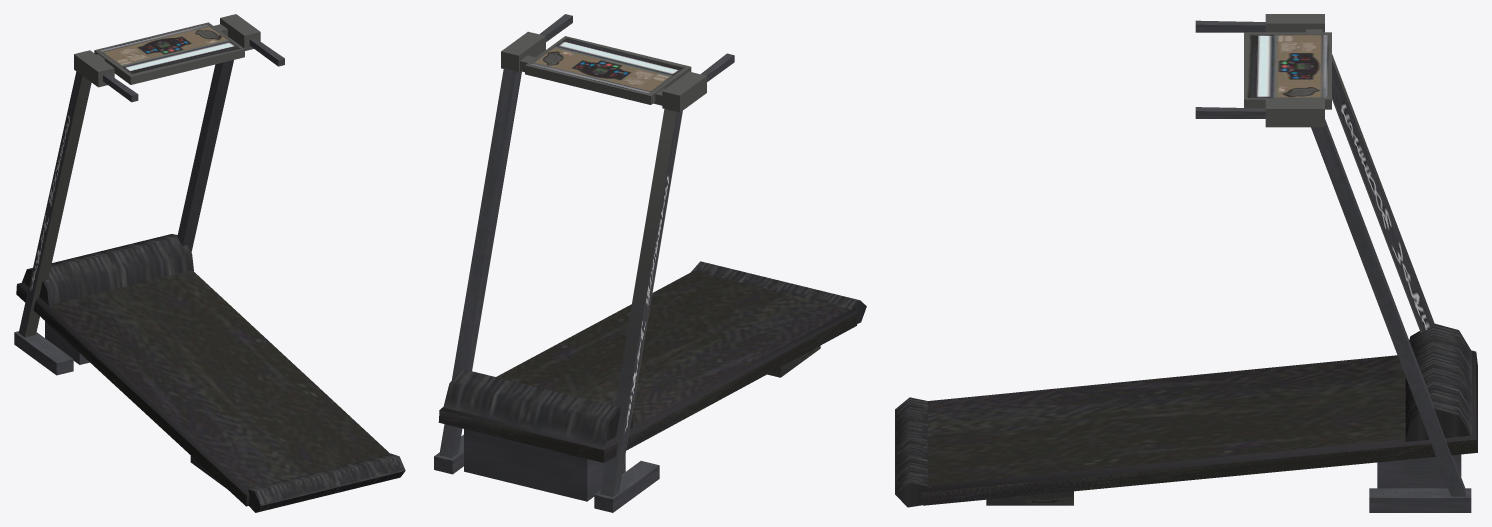
Rendered from tred.obj.
3 views of the same model, side by side, from view 1: azimuth 30°, elevation 25°; view 2: azimuth 150°, elevation 25°; view 3: azimuth 270°, elevation 25° (orthographic). The views are drawn at different scales.
Parts seen in each view (by area): view 1: br_tredmill; view 2: br_tredmill; view 3: br_tredmill.
Part boxes in pixels (bbox=[...]): br_tredmill: bbox=[14, 14, 405, 512]; br_tredmill: bbox=[434, 14, 866, 512]; br_tredmill: bbox=[895, 14, 1477, 512].
Size of the model in its own units: 43.13 by 85.23 by 111.
1 material, 1 textured.
